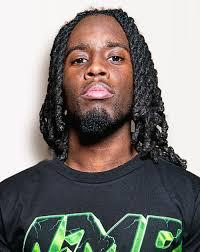kai-cenat: (59, 12, 144, 145)
